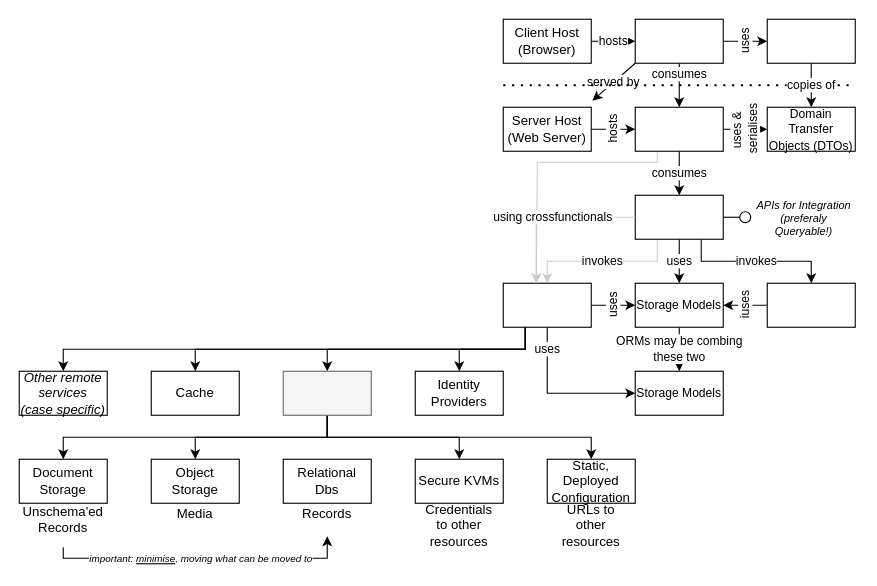
Image size: 877x586. Some labels were removed from this diagram. Each missing label, with the centre of its shape:
Application Services (Orchestrating): (678,216)
Business: (810,304)
deserialised DTOs: (810,40)
Infrastructure Services: (546,304)
Presentation (APIs or Server Side Rendering): (678,128)
Single Page App (SPA): (678,40)
Sorage: (326,392)
